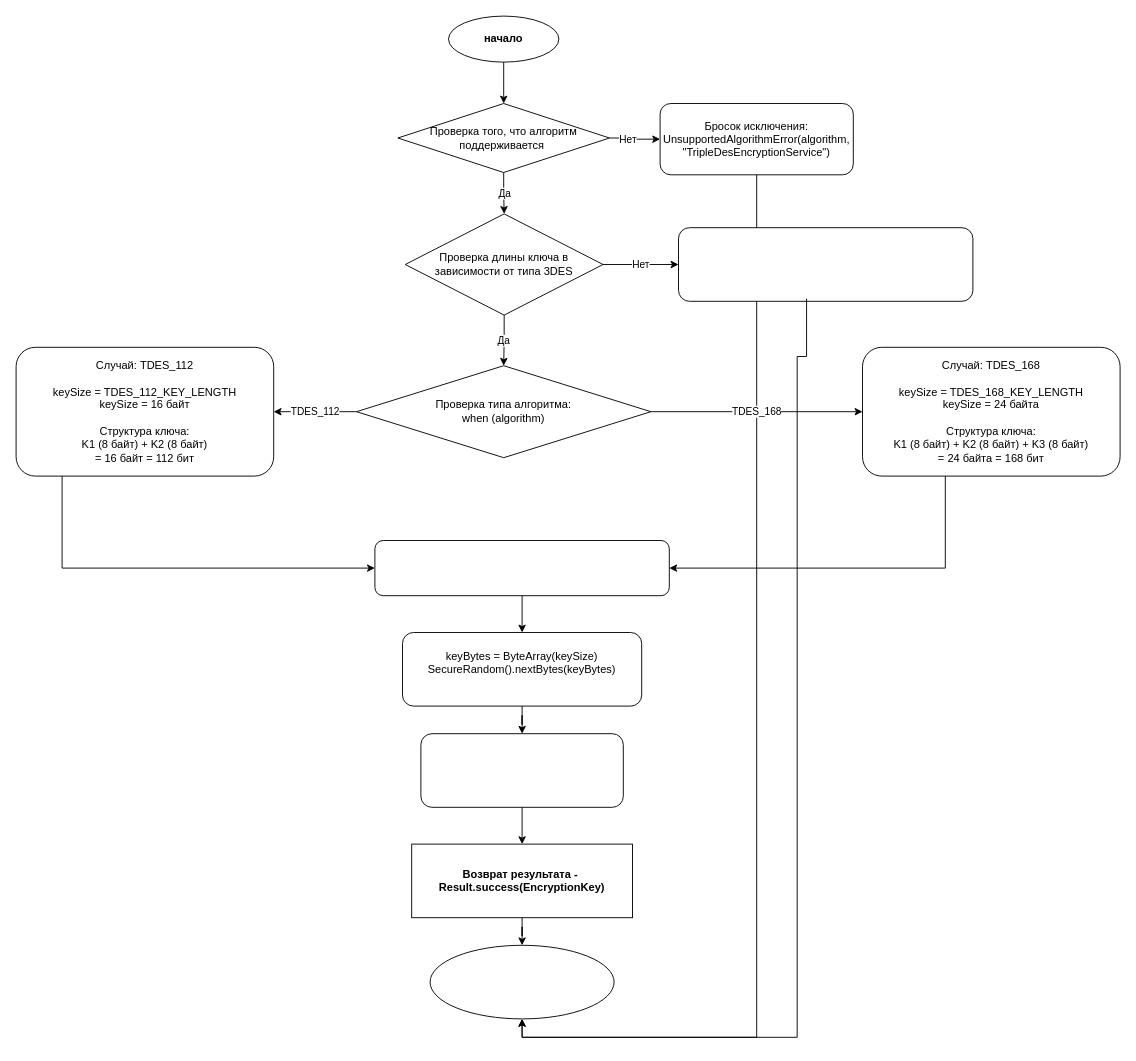
The diagram is 1136 pixels wide and 1061 high, and some of its shapes have lost their labels. The centre of each missing label's shape, as x and y in pixels:
"EncryptionKey( value = keyBytes, algorithm = algorithm )" goes at point (521, 770).
"Бросок исключения: DomainError" goes at point (825, 264).
"Возврат размера ключа - keySize" goes at point (521, 568).
"конец" goes at point (521, 981).
